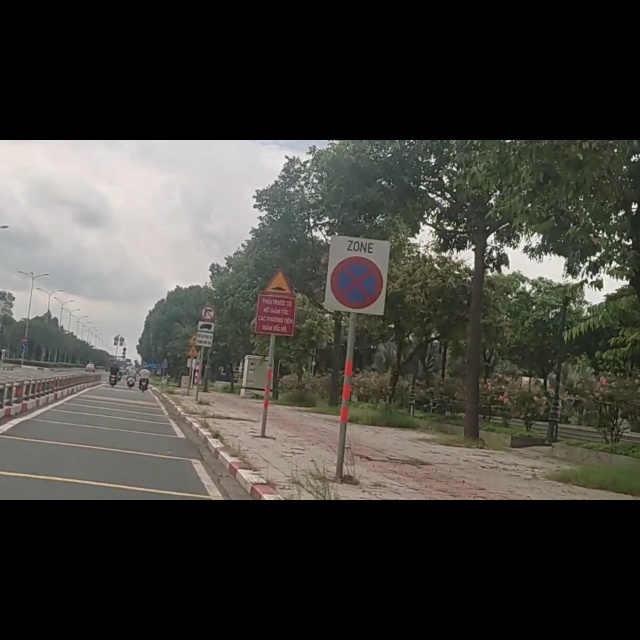bien_nguy_hiem: (325, 168, 389, 308), (263, 231, 295, 276), (195, 321, 214, 369), (201, 293, 216, 322)
